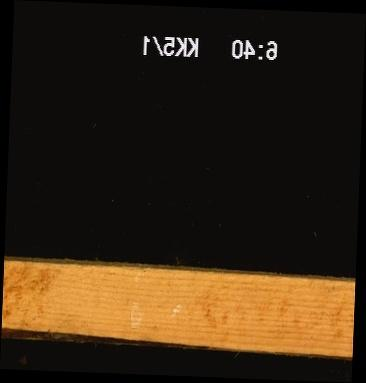wave: (0, 328, 204, 346)
